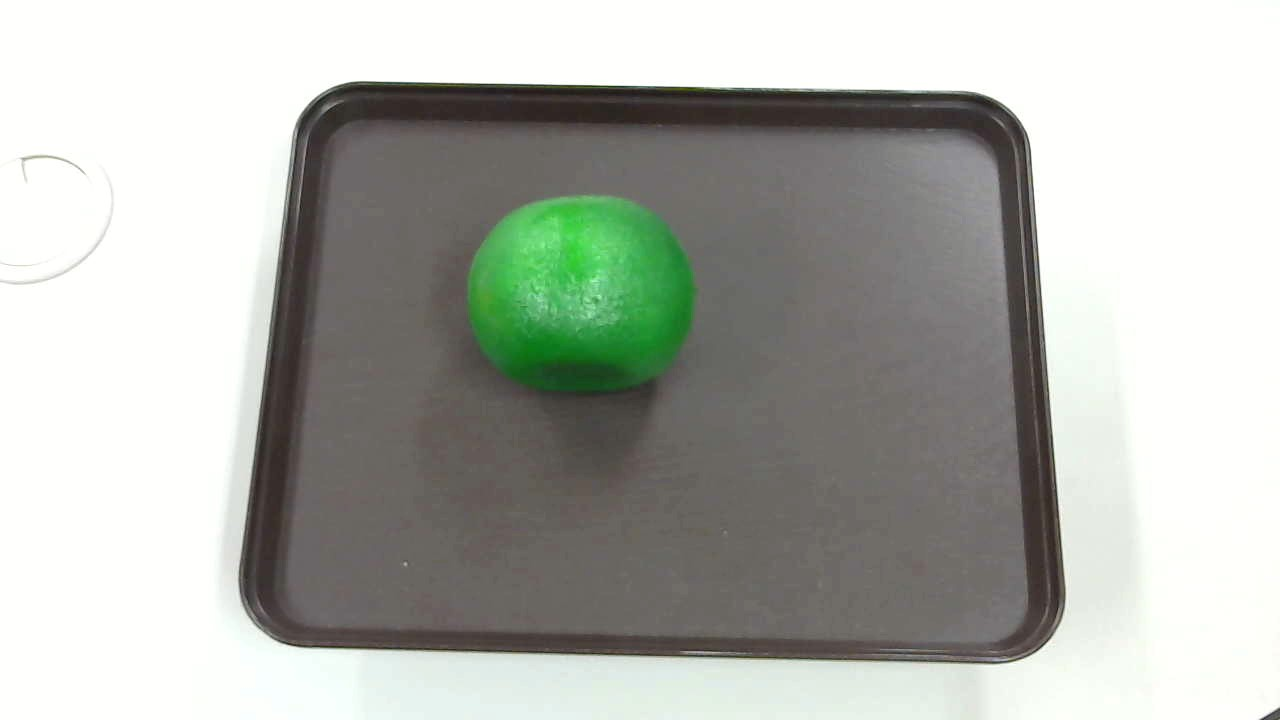green orange: (464, 190, 695, 403)
